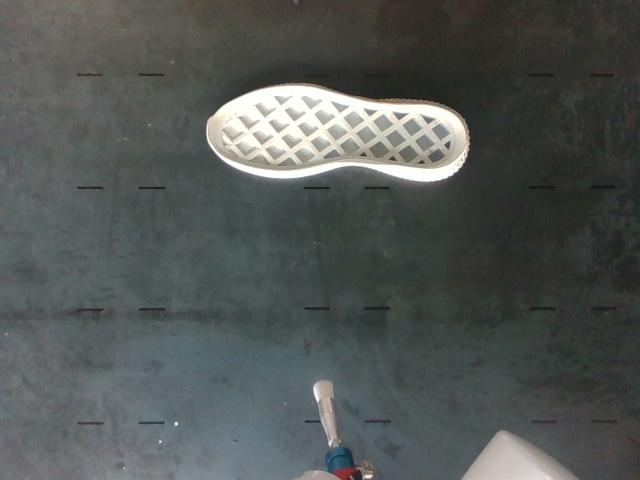shoes: (207, 86, 466, 170)
